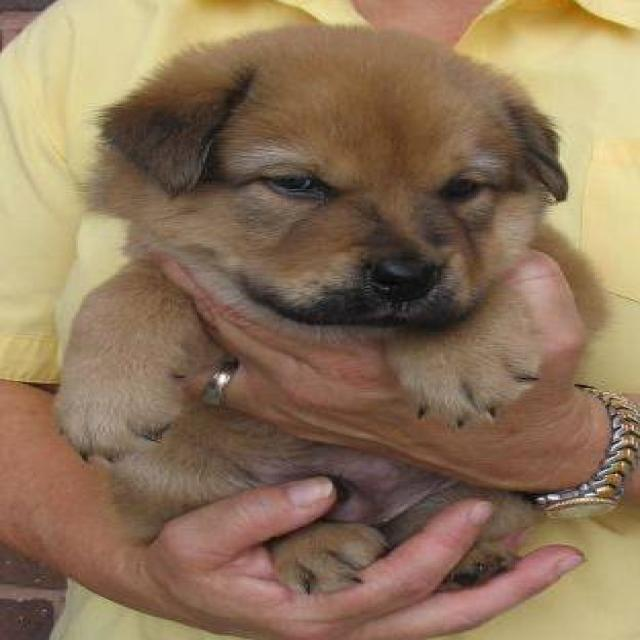dog: (49, 22, 612, 597)
